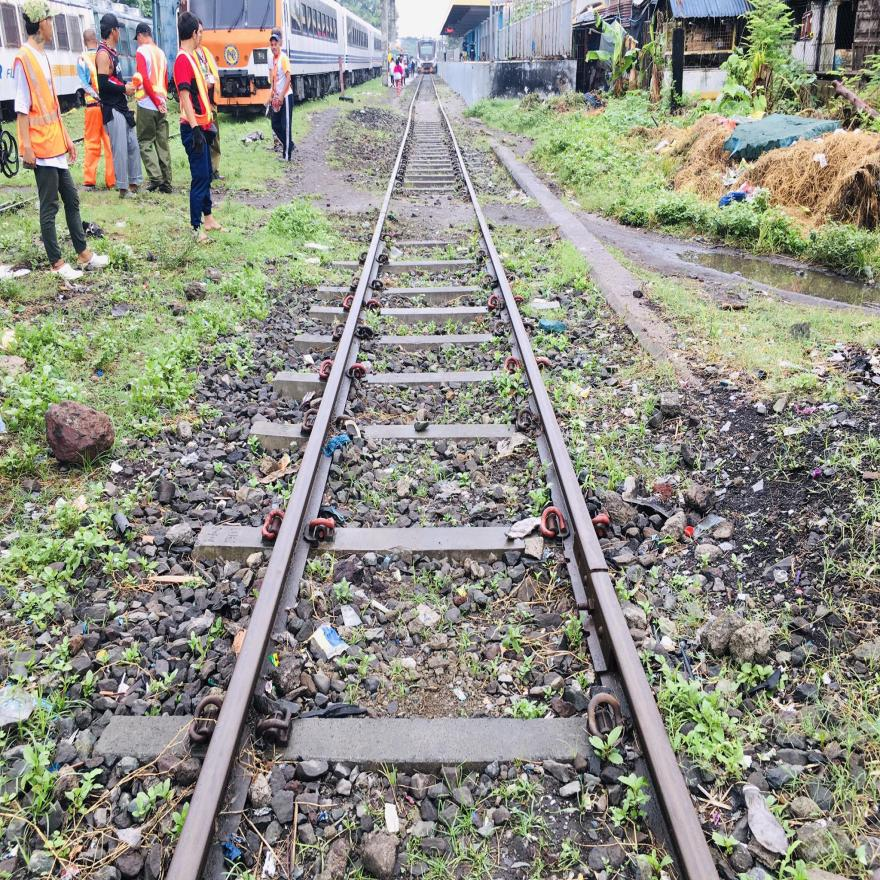railway-gap: (571, 542, 620, 601)
